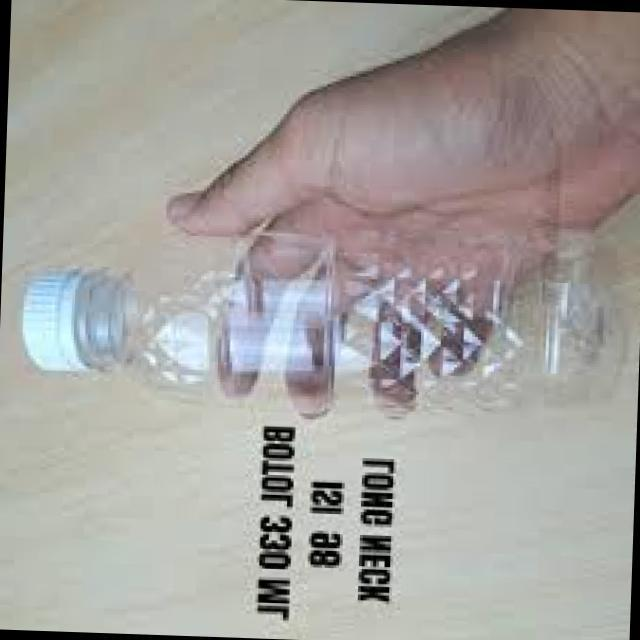good: (12, 210, 619, 452)
